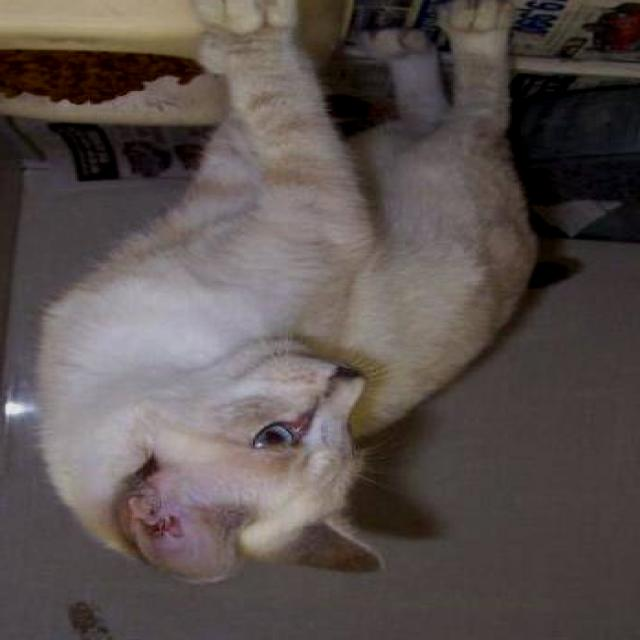Kucing: (0, 0, 589, 636)
